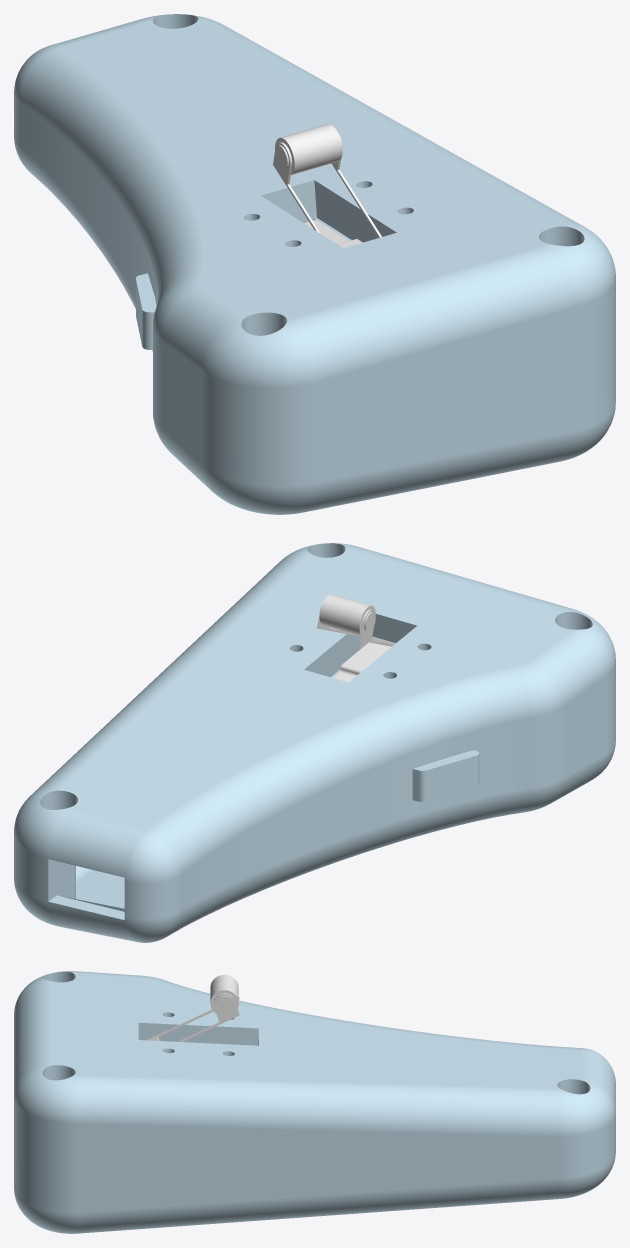
The model's file is Assembly.gltf.
The picture shows the model from 3 angles, top to bottom: view 1: azimuth 30°, elevation 25°; view 2: azimuth 150°, elevation 25°; view 3: azimuth 270°, elevation 25°; orthographic projection. The views are drawn at different scales.
Parts seen in each view (by area): view 1: Part 1 (×3), microswitch (×2); view 2: Part 1 (×3), microswitch (×3); view 3: Part 1 (×2), microswitch (×2).
Boxes of the visible parts, bbox=[...] form: Part 1 (×3): bbox=[14, 14, 615, 514]; microswitch (×2): bbox=[273, 124, 381, 237]; Part 1 (×3): bbox=[14, 543, 615, 942]; microswitch (×3): bbox=[317, 594, 395, 682]; Part 1 (×2): bbox=[14, 971, 615, 1233]; microswitch (×2): bbox=[147, 974, 239, 1041].
Bounding box in the file's own units: 0.0559 × 0.0401 × 0.1.
